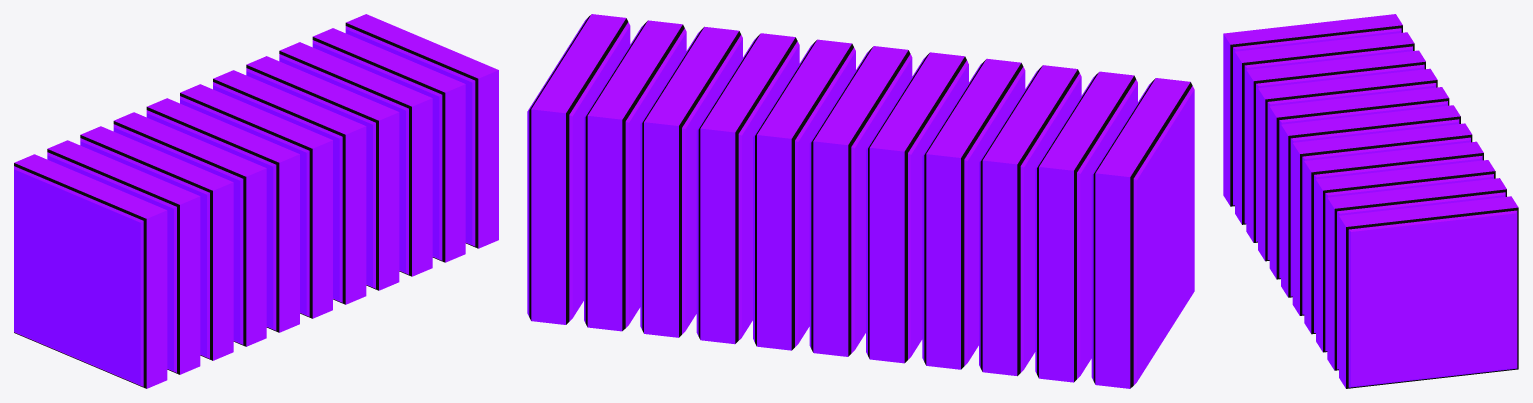
3 renders of one model, left to right at view 1: azimuth 30°, elevation 25°; view 2: azimuth 150°, elevation 25°; view 3: azimuth 270°, elevation 25°, orthographic. The views are drawn at different scales.
Visible parts, largest first — view 1: 3, 3.002, 3.008, 3.003, 3.004, 3.007, 3.009, 3.006, 3.001, 3.010, 3.005; view 2: 3, 3.003, 3.007, 3.010, 3.005, 3.002, 3.008, 3.004, 3.006, 3.001, 3.009; view 3: 3.010, 3.006, 3.004, 3.009, 3.005, 3.007, 3, 3.001, 3.003, 3.002, 3.008.
Part boxes in pixels (bbox=[...]): 3: bbox=[14, 154, 167, 388]; 3.002: bbox=[80, 126, 233, 360]; 3.008: bbox=[279, 42, 432, 276]; 3.003: bbox=[113, 112, 266, 346]; 3.004: bbox=[146, 98, 299, 332]; 3.007: bbox=[246, 56, 399, 290]; 3.009: bbox=[312, 28, 465, 262]; 3.006: bbox=[213, 70, 366, 304]; 3.001: bbox=[47, 140, 200, 374]; 3.010: bbox=[345, 14, 498, 248]; 3.005: bbox=[180, 84, 332, 318]; 3: bbox=[1091, 78, 1194, 388]; 3.003: bbox=[922, 58, 1025, 369]; 3.007: bbox=[696, 33, 799, 344]; 3.010: bbox=[527, 14, 630, 324]; 3.005: bbox=[809, 46, 912, 356]; 3.002: bbox=[979, 65, 1081, 376]; 3.008: bbox=[640, 26, 742, 337]; 3.004: bbox=[866, 52, 968, 363]; 3.006: bbox=[753, 39, 855, 350]; 3.001: bbox=[1035, 71, 1137, 382]; 3.009: bbox=[584, 20, 686, 331]; 3.010: bbox=[1339, 196, 1518, 388]; 3.006: bbox=[1292, 123, 1472, 315]; 3.004: bbox=[1269, 87, 1449, 279]; 3.009: bbox=[1327, 178, 1506, 370]; 3.005: bbox=[1281, 105, 1460, 297]; 3.007: bbox=[1304, 141, 1483, 334]; 3: bbox=[1223, 14, 1402, 206]; 3.001: bbox=[1235, 32, 1414, 224]; 3.003: bbox=[1258, 68, 1437, 261]; 3.002: bbox=[1246, 50, 1425, 242]; 3.008: bbox=[1316, 160, 1495, 352].
Bounding box in the file's own units: 2.33 × 0.815 × 1.35.
